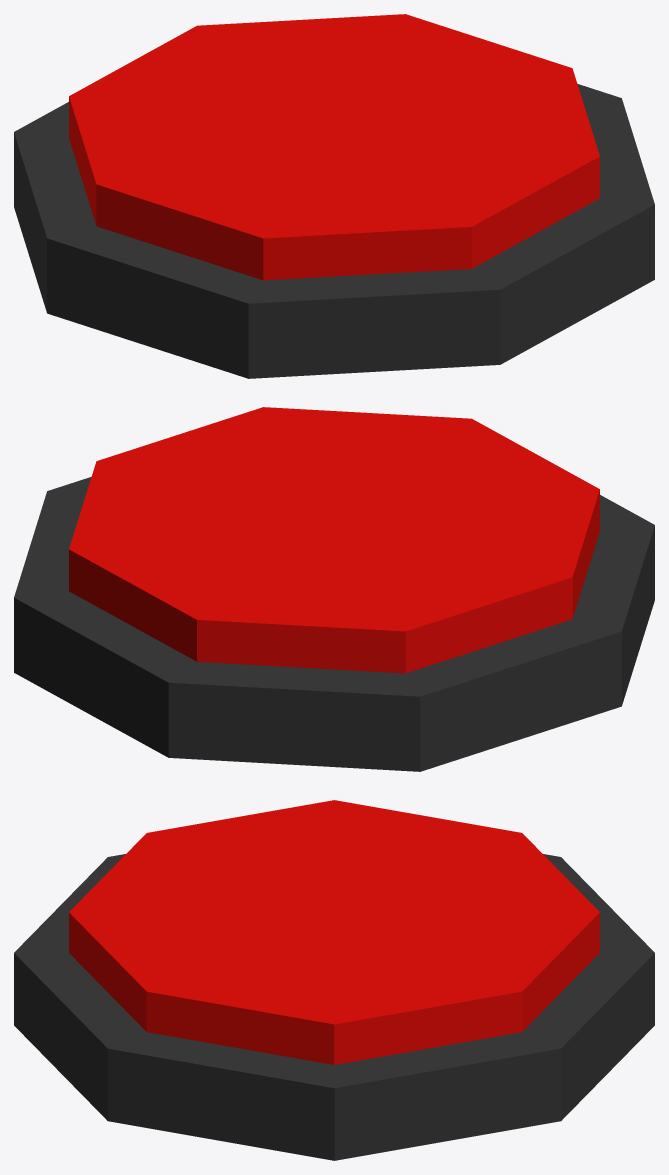
The model's file is pressure_plate.fbx.
The picture shows the model from 3 angles, top to bottom: view 1: azimuth 30°, elevation 25°; view 2: azimuth 150°, elevation 25°; view 3: azimuth 270°, elevation 25°; orthographic projection. The views are drawn at different scales.
Parts seen in each view (by area): view 1: Circle; view 2: Circle; view 3: Circle.
Boxes of the visible parts, bbox=[...] form: Circle: bbox=[14, 14, 654, 378]; Circle: bbox=[14, 407, 654, 771]; Circle: bbox=[14, 800, 654, 1160].
Size of the model in its own units: 200 by 38.96 by 200.
